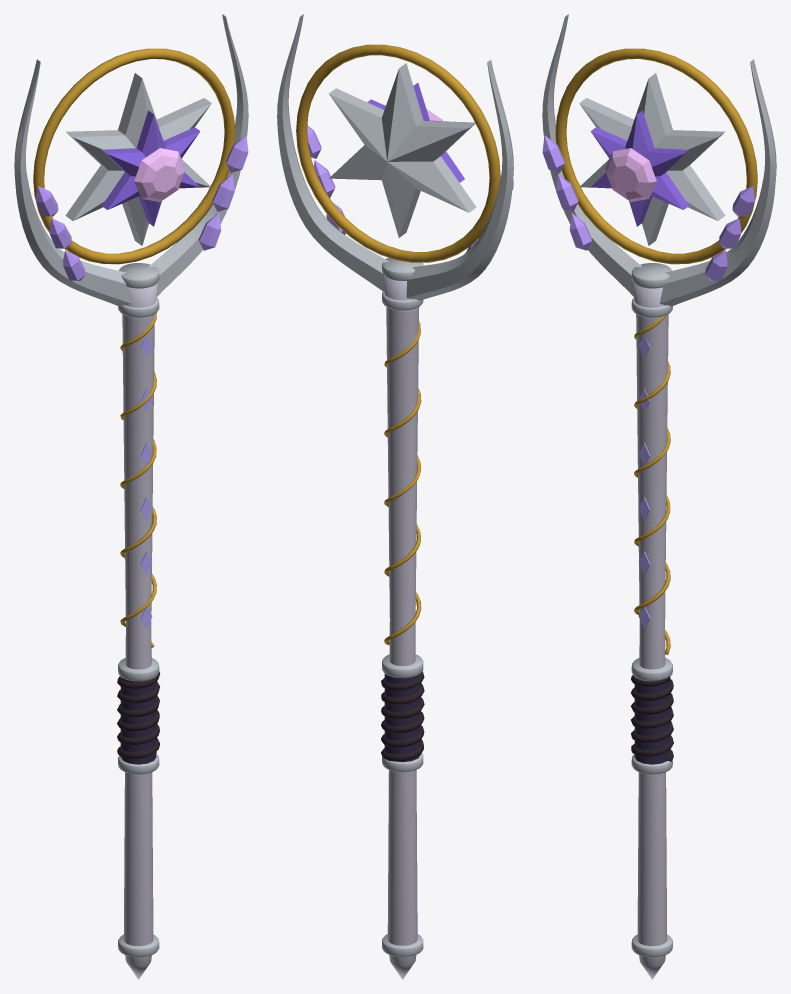
The model's file is staff_starlight.fbx.
3 renders of one model, left to right at view 1: azimuth 30°, elevation 25°; view 2: azimuth 150°, elevation 25°; view 3: azimuth 330°, elevation 25°, orthographic.
Parts seen in each view (by area): view 1: staff_starlight; view 2: staff_starlight; view 3: staff_starlight.
Boxes of the visible parts, x1,y1,x2,y2 form: staff_starlight: (14,14,248,979); staff_starlight: (277,14,513,979); staff_starlight: (542,14,776,979).
Bounding box in the file's own units: 0.378 × 1.45 × 0.1181.
